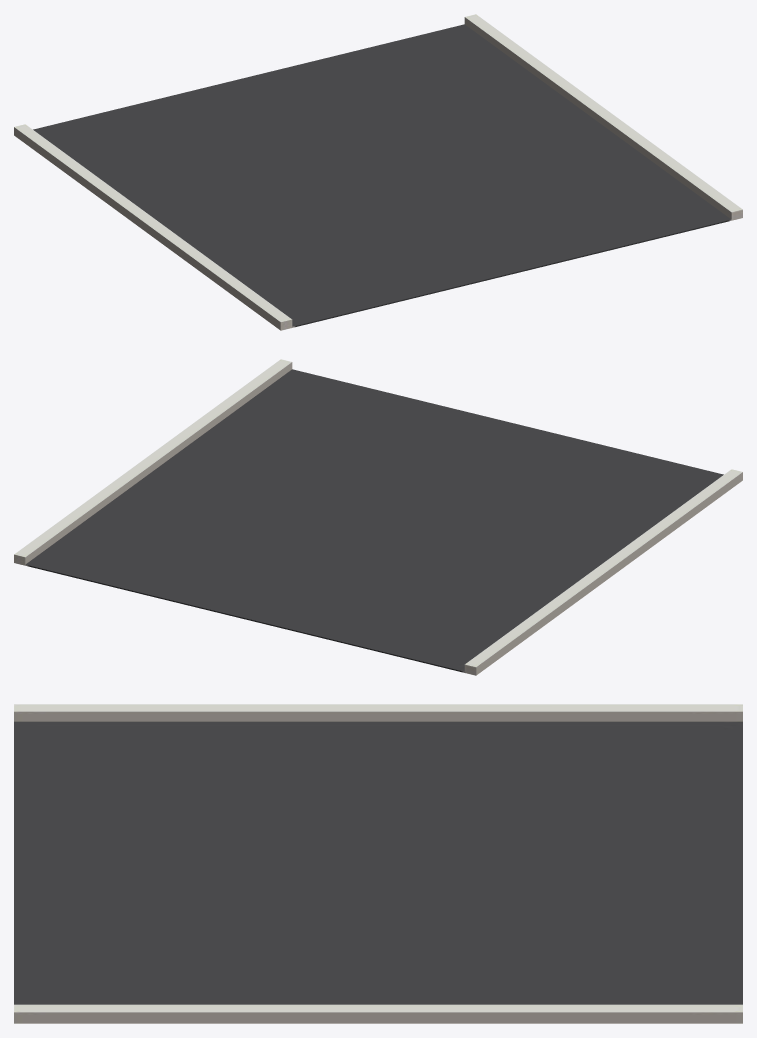
Rendered from road01.FBX.
The picture shows the model from 3 angles, top to bottom: view 1: azimuth 30°, elevation 25°; view 2: azimuth 150°, elevation 25°; view 3: azimuth 270°, elevation 25°; orthographic projection. The views are drawn at different scales.
Parts seen in each view (by area): view 1: Box054; view 2: Box054; view 3: Box054.
Part boxes in pixels (x1=…): Box054: x1=14, y1=14, x2=742, y2=330; Box054: x1=14, y1=359, x2=742, y2=675; Box054: x1=14, y1=704, x2=742, y2=1023.
Bounding box in the file's own units: 78.74 × 1.38 × 78.74.
Materials: 1 (1 with a texture image).
